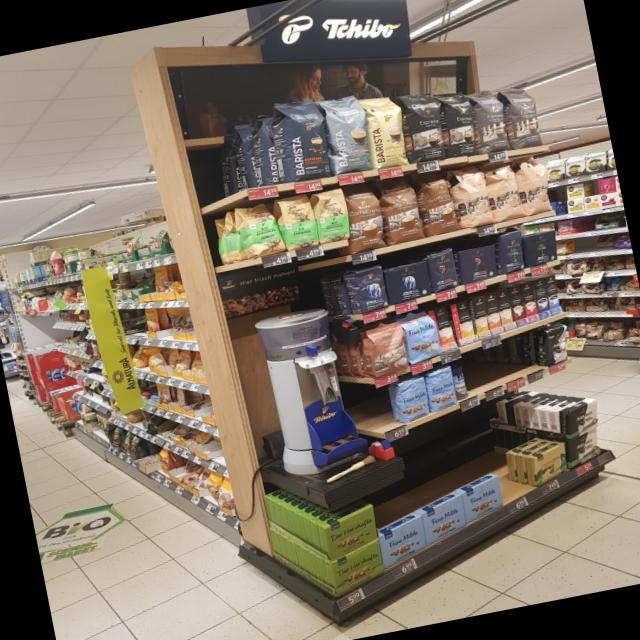AB Bohne: (348, 263, 391, 316)
AB Gemahlen: (385, 258, 434, 306)
Athiopien Bohne: (235, 200, 288, 258)
Athiopien Gemahlen: (276, 193, 322, 250), (311, 188, 352, 245)
BM Bohne: (496, 227, 527, 277)
BM Gemahlen: (523, 228, 558, 267)
BW Bohne: (541, 320, 571, 368)
BW Gemahlen: (566, 397, 601, 441), (567, 425, 601, 470)
Barista CB: (359, 92, 410, 169)
Barista CC: (318, 95, 376, 174)
Barista Espresso: (269, 99, 333, 184)
CC Mild: (452, 164, 497, 230), (484, 162, 527, 224), (518, 158, 555, 217)
CC Vollmundig: (363, 318, 411, 381)
CC Vollmundig 36 Pads: (379, 181, 427, 248), (344, 188, 389, 256), (418, 175, 463, 238)
Colombia BB Gemahlen: (535, 443, 568, 487)
Espresso Aromatisch: (471, 86, 513, 154), (503, 85, 546, 150)
Espresso Kraftig: (398, 90, 449, 165), (439, 89, 481, 158)
FM 36 Pads: (398, 308, 443, 367)
FM Bohne: (392, 372, 432, 426), (426, 363, 459, 414)
FM Gemahlen: (379, 514, 428, 571), (462, 475, 504, 527), (425, 494, 465, 547)
Herzhatfe Mundig: (332, 538, 385, 598), (325, 505, 379, 562)
LG Bohne: (426, 247, 461, 294)
LG Gemahlen: (458, 244, 498, 285)
Simo CCMild: (450, 300, 478, 346)
Simo CCMild bigpack: (473, 295, 490, 340)
Simo CCVollmundig bigpack: (485, 292, 503, 336)
Simo Decaff: (496, 288, 515, 332)
Simo Es Brazil: (520, 280, 540, 322)
Simo Es Caramel: (508, 284, 529, 328)
Simo Es Kraft: (533, 277, 552, 320)
Simo Es Vanilla: (544, 274, 563, 315)
